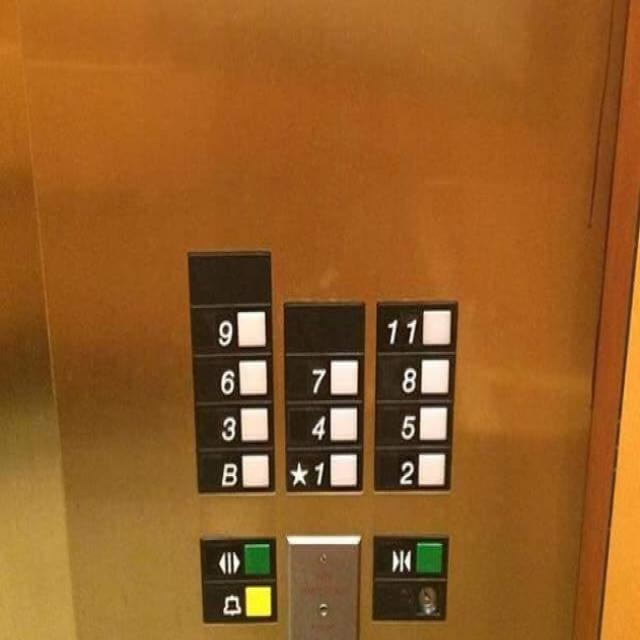11: (374, 299, 460, 353)
2: (371, 444, 454, 496)
3: (193, 398, 275, 450)
4: (283, 397, 365, 452)
5: (372, 393, 456, 447)
6: (189, 348, 275, 403)
7: (280, 348, 367, 403)
8: (374, 348, 456, 403)
9: (188, 303, 274, 352)
B: (195, 445, 276, 495)
alarm: (198, 576, 280, 627)
bt_keyhole: (370, 578, 450, 622)
close: (368, 530, 449, 578)
empty: (184, 247, 272, 305), (279, 297, 366, 352)
open: (195, 532, 278, 580)
s1: (283, 444, 367, 495)
